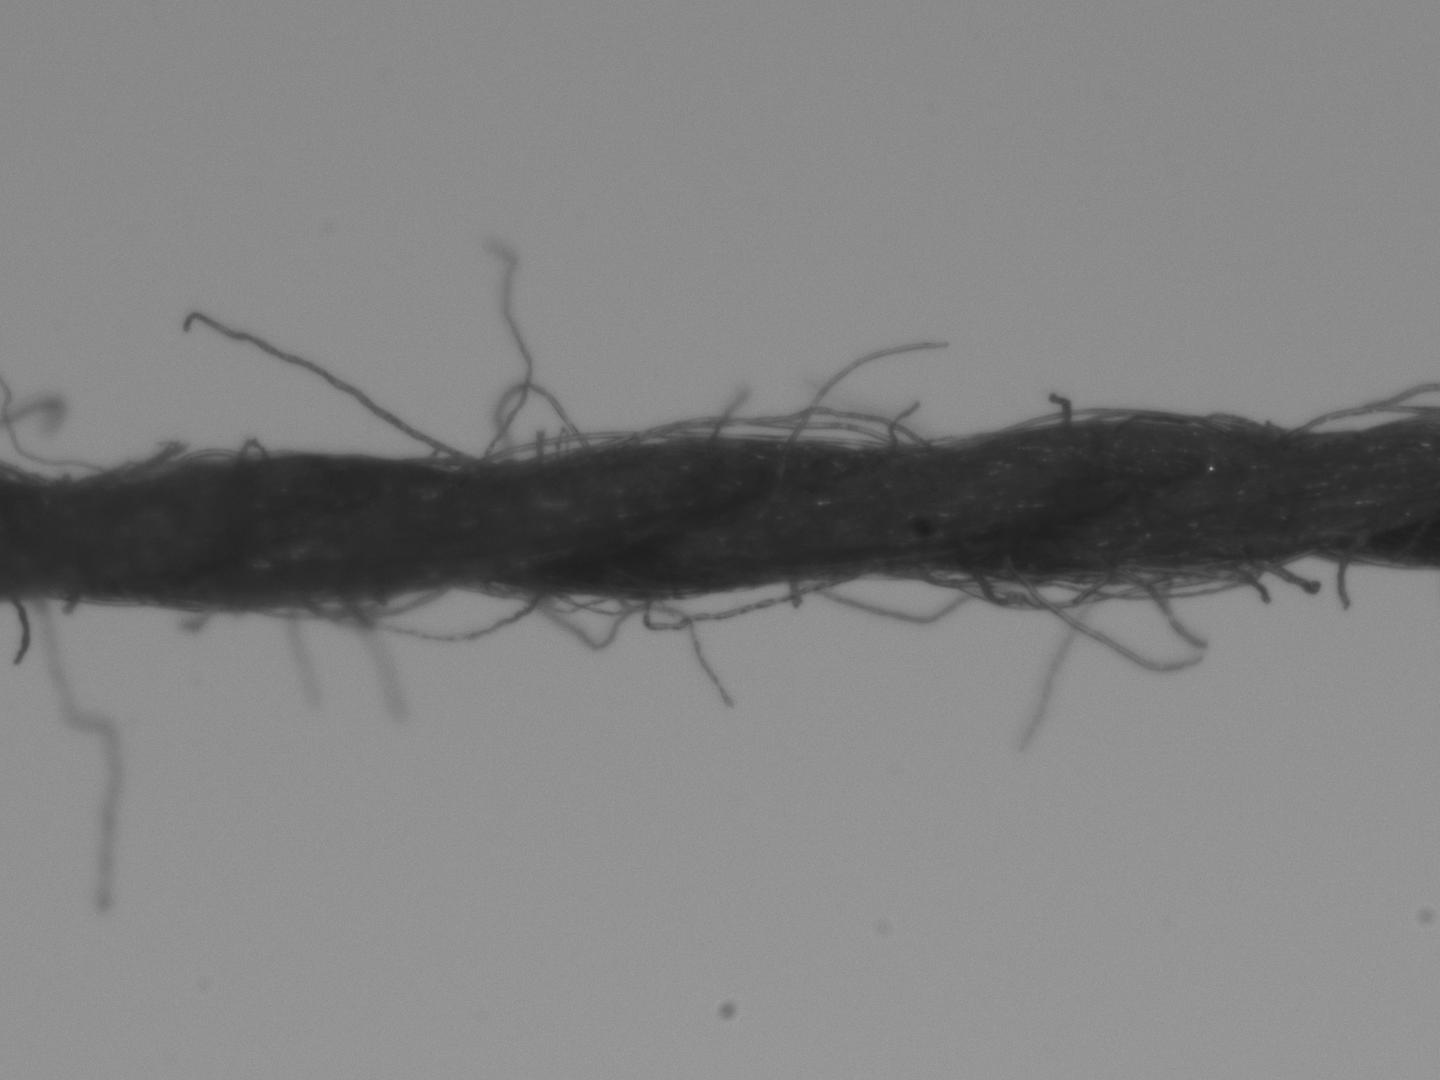loop_fiber: (617, 405, 932, 448), (293, 585, 544, 639), (639, 571, 835, 633), (1071, 551, 1293, 599), (810, 568, 991, 624), (497, 381, 590, 465), (989, 568, 1108, 617), (1289, 398, 1429, 438), (543, 589, 619, 644), (231, 437, 269, 467)
protruding_fiber: (185, 312, 475, 464), (790, 338, 949, 444), (1019, 583, 1109, 749), (1253, 548, 1321, 598), (9, 598, 34, 668), (1047, 393, 1077, 425), (1337, 549, 1353, 609)
